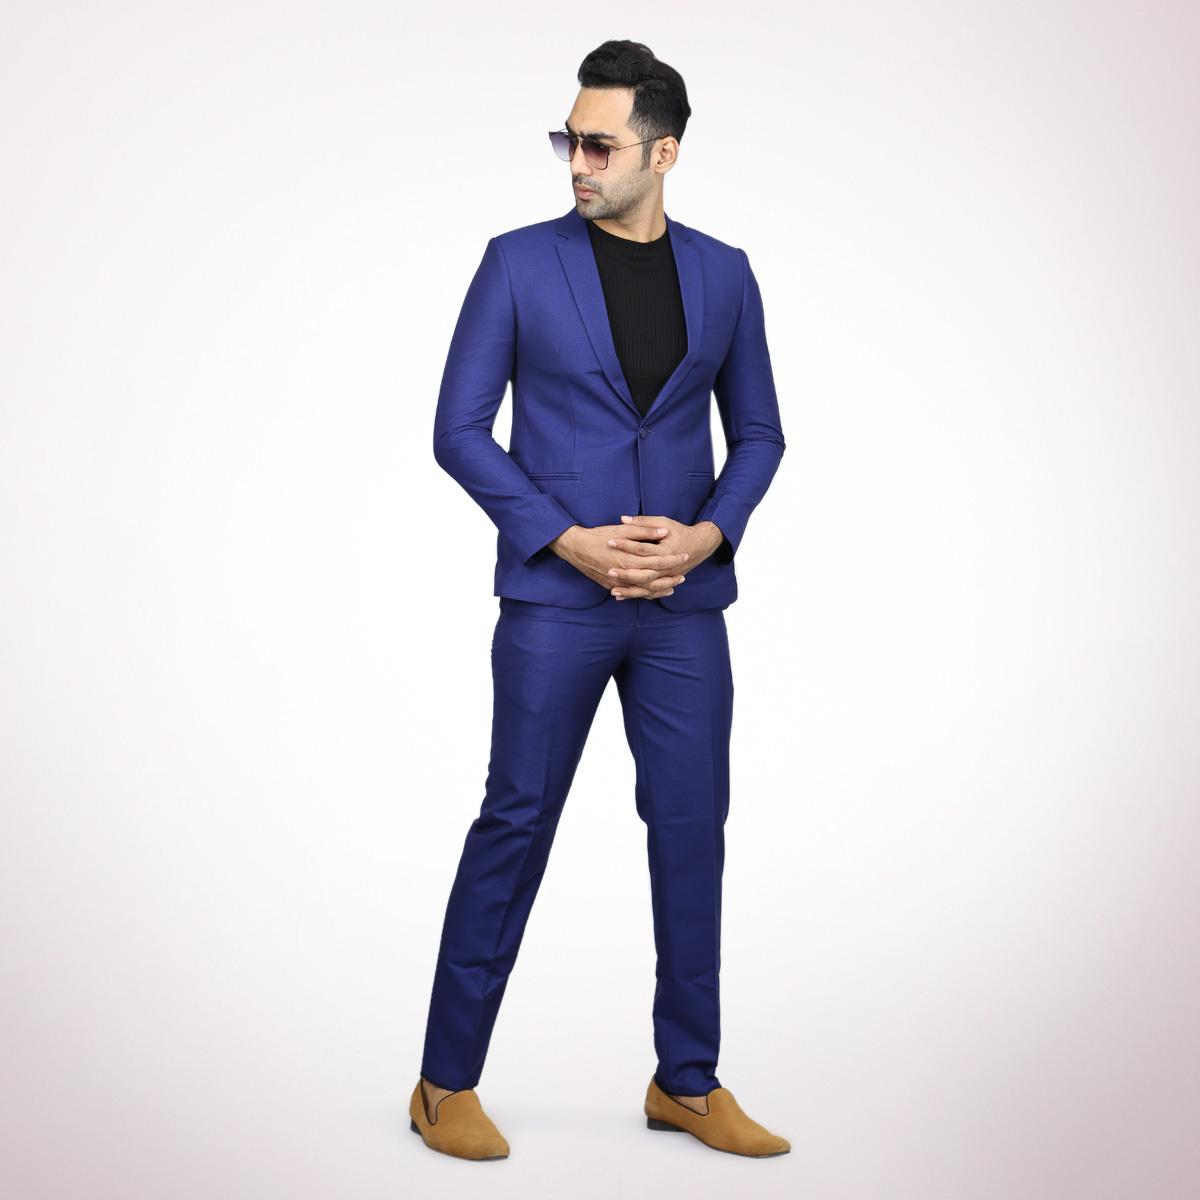F_M_suit jacket: (398, 199, 862, 598)
F_dress pants: (416, 595, 744, 1076)
S_loaf: (624, 1053, 798, 1163), (387, 1069, 521, 1178)
